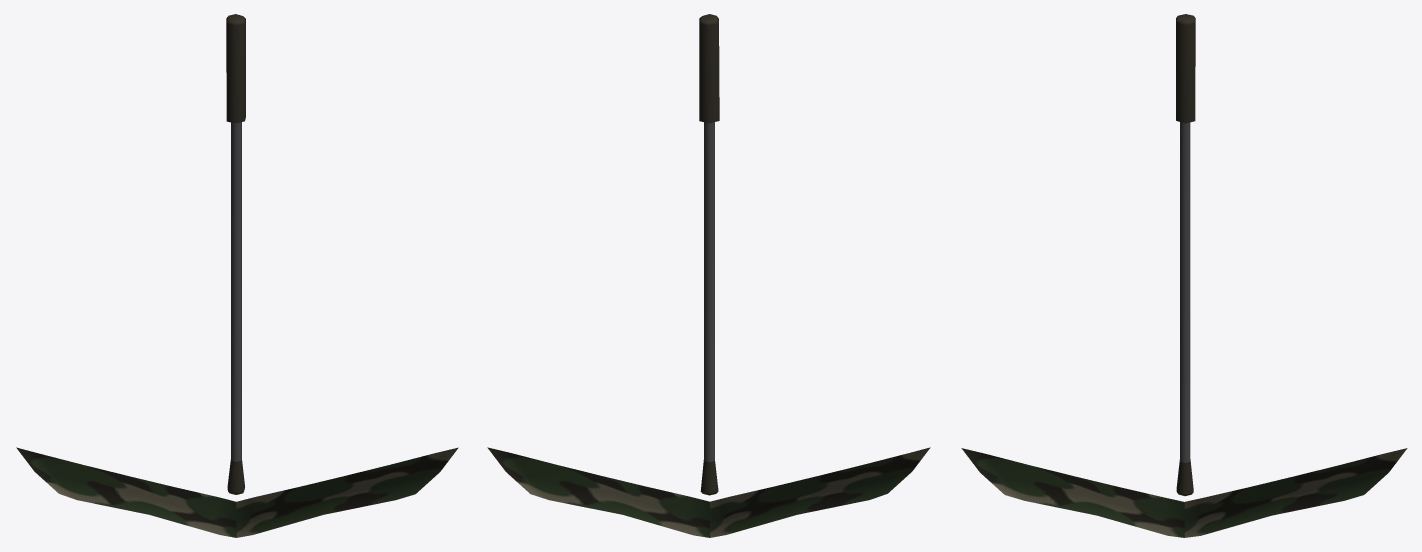
File: UmbrellaOutdoor0.glb
3 views of the same model, side by side, from view 1: azimuth 30°, elevation 25°; view 2: azimuth 150°, elevation 25°; view 3: azimuth 270°, elevation 25° (orthographic).
Parts seen in each view (by area): view 1: Pole__mUmbrella; view 2: Pole__mUmbrella; view 3: Pole__mUmbrella.
Part boxes in pixels (left/top/right/bottom): Pole__mUmbrella: left=16, top=14, right=458, bottom=537; Pole__mUmbrella: left=487, top=14, right=930, bottom=537; Pole__mUmbrella: left=961, top=14, right=1407, bottom=537.
Size of the model in its own units: 15.13 by 15.54 by 13.22.
Materials: 1 (1 with a texture image).
